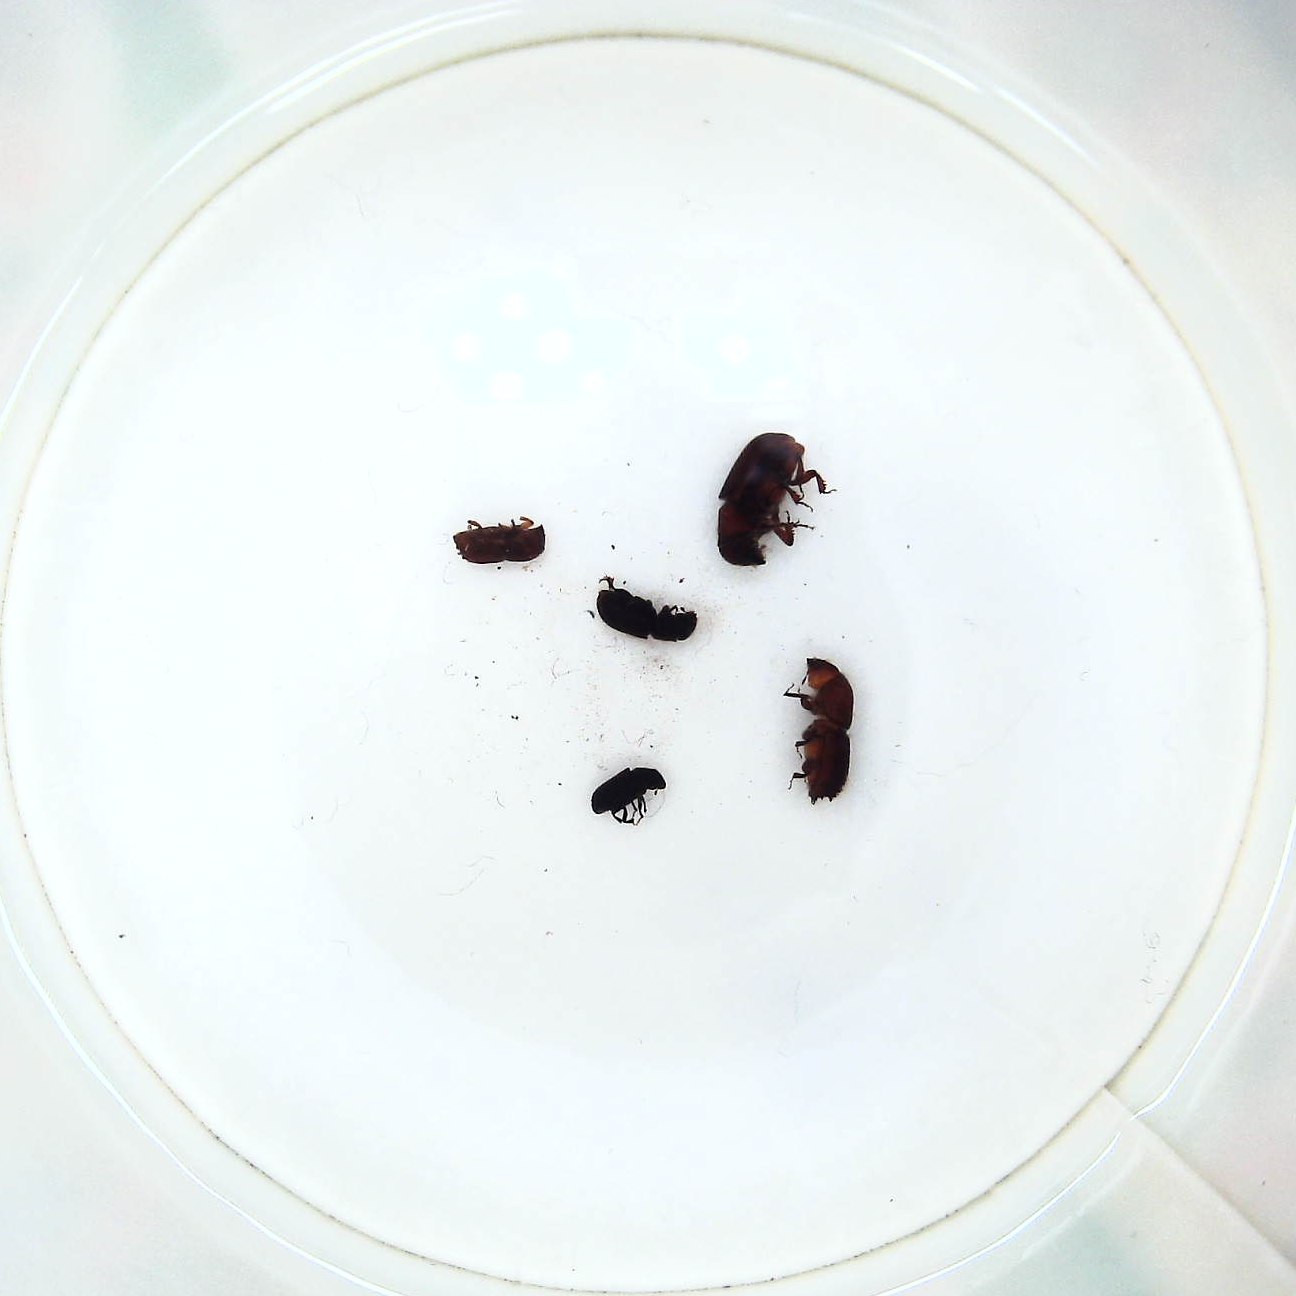Boerner: (783, 652, 858, 811)
Leconte: (712, 428, 836, 572)
armandi: (592, 568, 703, 644)
coleoptera: (580, 762, 673, 833)
linnaeus: (449, 513, 551, 572)
